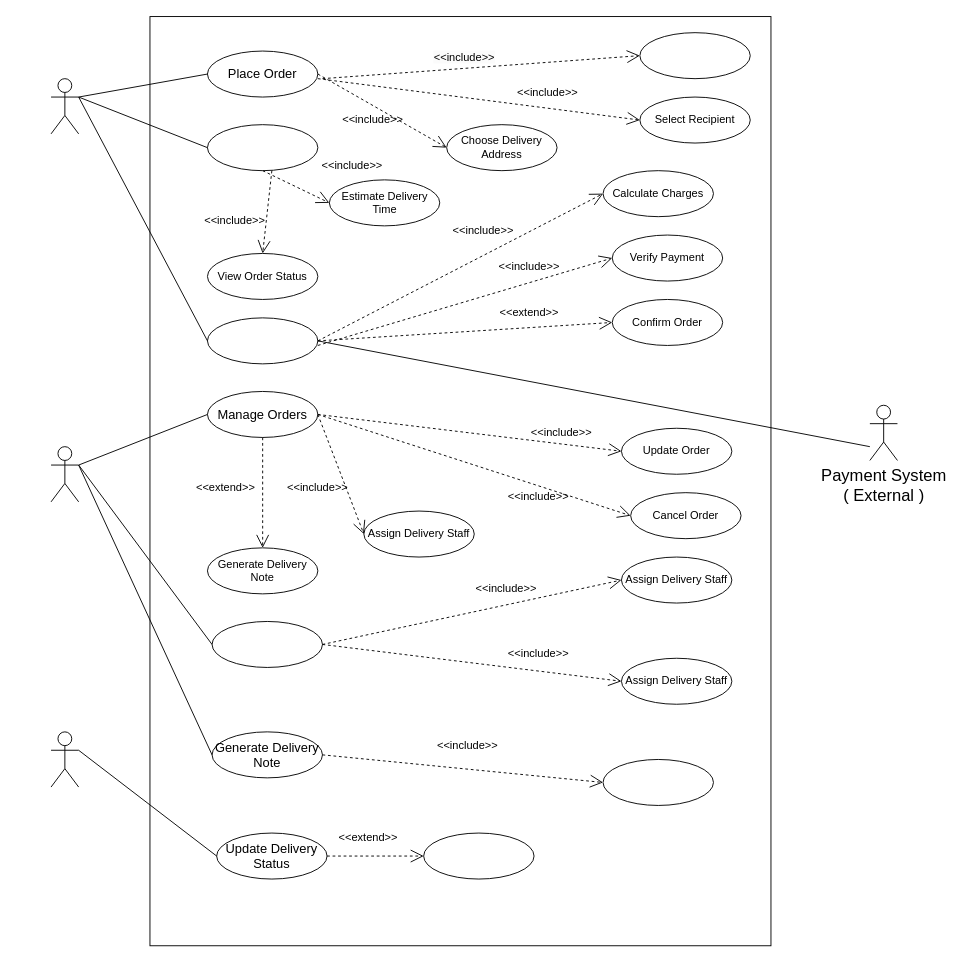
Some shapes in this 962 by 961 pixel diagram are drawn without their labels. The centre of each missing label's shape, as x and y in pixels:
Add Items: point 694,55
Admin: point 64,474
Compute Total Charges: point 657,782
Customer: point 64,106
Delivery Staff: point 64,759
Manage Recipients: point 266,644
Notify Customer: point 478,855
Process Payment: point 262,340
Track Delivery: point 262,147
